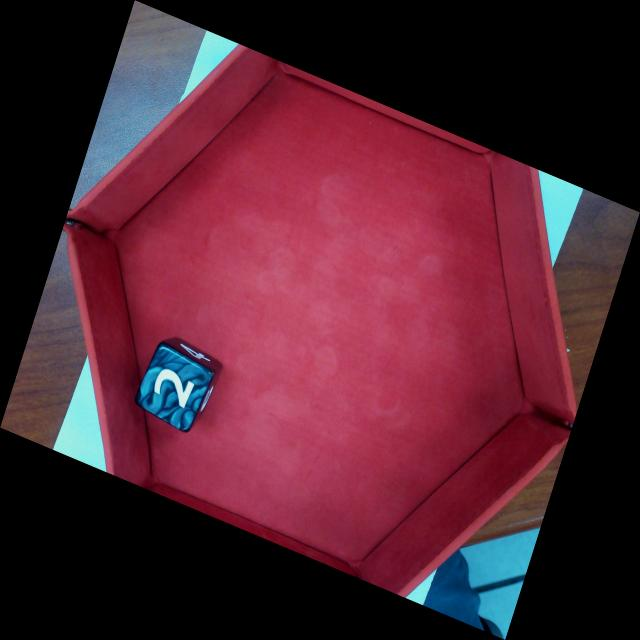dice: (137, 345, 213, 433)
